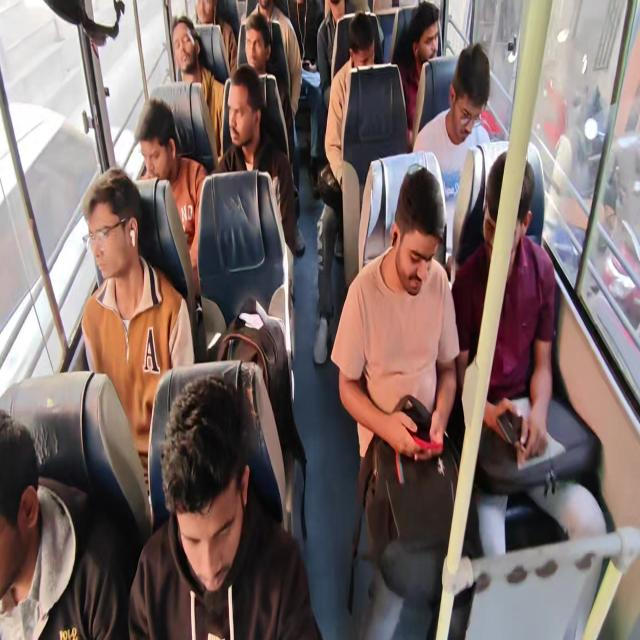person: (158, 385, 283, 640), (474, 162, 602, 335), (0, 396, 76, 640), (77, 175, 159, 306), (373, 188, 442, 336), (148, 88, 204, 200), (222, 83, 272, 179), (158, 23, 216, 93), (444, 72, 488, 160), (241, 22, 283, 104), (411, 8, 442, 70), (346, 13, 379, 67), (293, 0, 316, 71), (244, 0, 286, 27), (194, 0, 219, 45), (323, 0, 348, 20)
